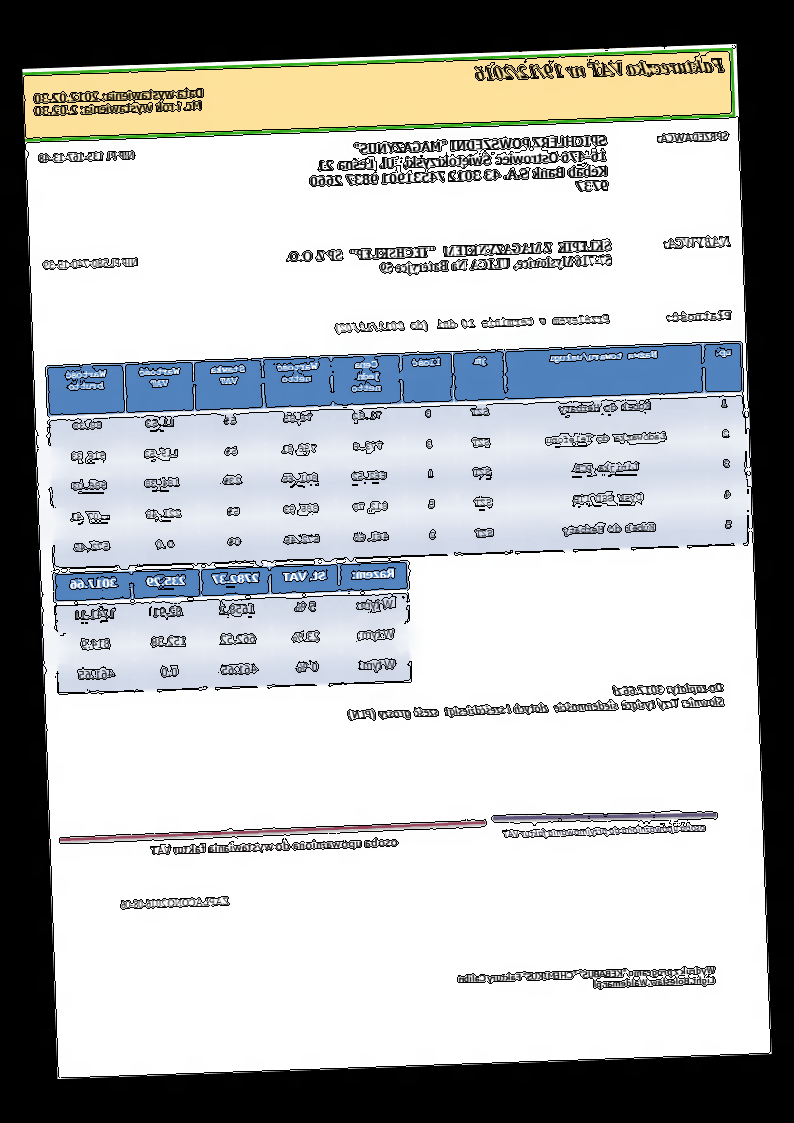Table: (44, 339, 750, 571), (52, 561, 413, 695)
TextBox: (306, 131, 611, 203), (346, 679, 726, 724), (285, 237, 614, 280), (455, 962, 717, 995), (472, 54, 727, 86), (334, 310, 612, 337), (150, 834, 401, 859), (32, 84, 206, 118), (501, 820, 708, 843), (119, 893, 233, 912), (42, 255, 140, 274), (35, 147, 136, 165), (661, 231, 734, 252), (657, 128, 730, 146), (663, 307, 734, 324)
